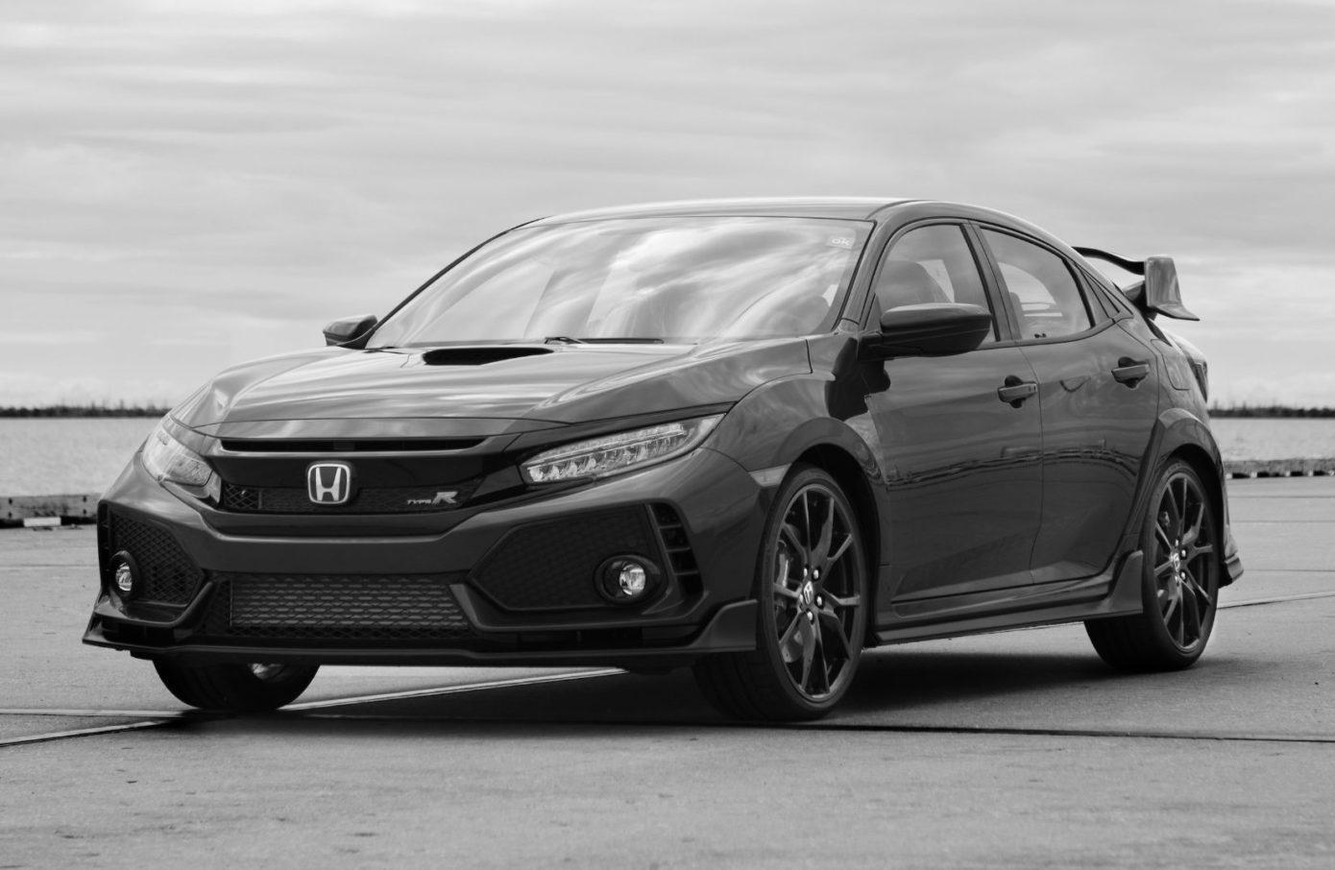Car hood: (176, 334, 817, 448)
Fender - -F-L-: (706, 311, 893, 663)
Fender - -R-L-: (1131, 311, 1208, 608)
Front bumper: (77, 468, 780, 686)
Headlight - -L-: (509, 401, 760, 503)
Headlight - -R-: (123, 396, 243, 522)
Passenger-s door - -F-L-: (884, 197, 1044, 612)
Passenger-s door - -R-L-: (1016, 230, 1179, 608)
Rear bumper: (1192, 468, 1258, 605)
Rear light - -L-: (1174, 332, 1230, 402)
Side bumper - -L-: (857, 540, 1166, 655)
Side mirror - -L-: (857, 284, 1007, 370)
Side mirror - -R-: (315, 299, 389, 363)
